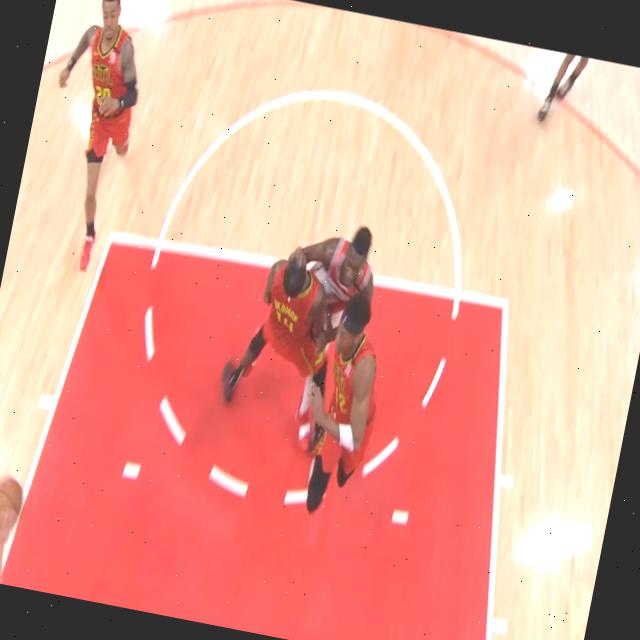foul: (158, 138, 449, 562)
